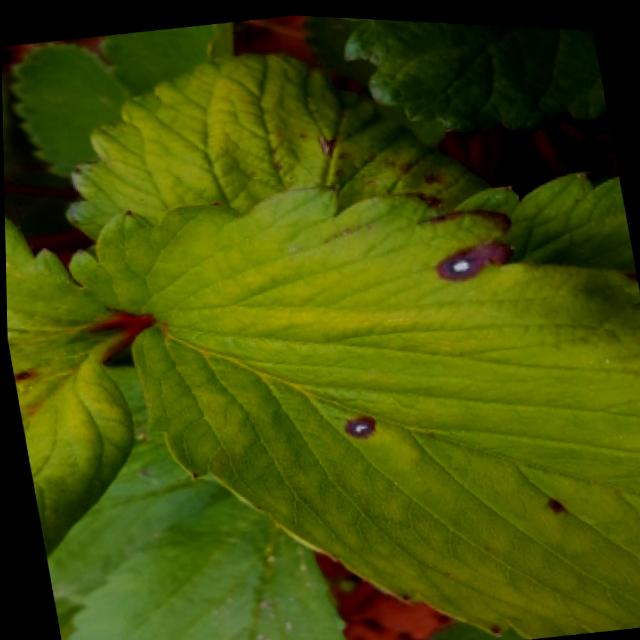Leaf Spot: (93, 178, 640, 635), (62, 47, 494, 243), (4, 216, 131, 558)
